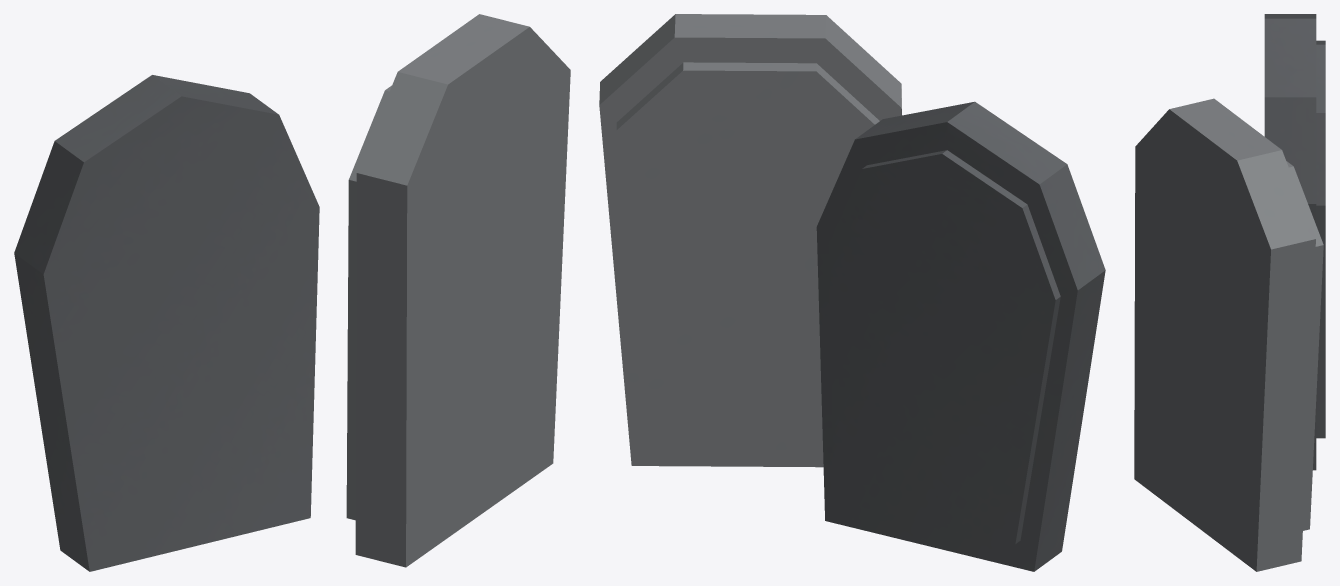
File: Lapides_Root.fbx
3 renders of one model, left to right at view 1: azimuth 30°, elevation 25°; view 2: azimuth 150°, elevation 25°; view 3: azimuth 270°, elevation 25°, orthographic. The views are drawn at different scales.
Parts seen in each view (by area): view 1: Lapides_frag_052, Lapides_frag_054, Lapides_frag_028, Lapides_frag_027, Lapides_frag_058, Lapides_frag_040, Lapides_frag_033, Lapides_frag_042, Lapides_frag_035, Lapides_frag_016, Lapides_frag_004, Lapides_frag_044 (+31 smaller); view 2: Lapides_frag_038, Lapides_frag_053, Lapides_frag_054, Lapides_frag_058, Lapides_frag_034, Lapides_frag_027, Lapides_frag_016, Lapides_frag_028, Lapides_frag_041, Lapides_frag_007, Lapides_frag_052, Lapides_frag_022 (+19 smaller); view 3: Lapides_frag_026, Lapides_frag_050, Lapides_frag_016, Lapides_frag_013, Lapides_frag_037, Lapides_frag_052, Lapides_frag_018, Lapides_frag_031, Lapides_frag_014, Lapides_frag_022, Lapides_frag_017, Lapides_frag_024 (+17 smaller).
Part boxes in pixels (x1,y1,x2,y2): Lapides_frag_052: [360, 52, 479, 238]; Lapides_frag_054: [45, 75, 246, 193]; Lapides_frag_028: [16, 267, 204, 403]; Lapides_frag_027: [199, 238, 318, 359]; Lapides_frag_058: [91, 177, 239, 282]; Lapides_frag_040: [349, 335, 445, 497]; Lapides_frag_033: [347, 227, 438, 365]; Lapides_frag_042: [125, 451, 245, 563]; Lapides_frag_035: [14, 152, 104, 299]; Lapides_frag_016: [435, 313, 519, 427]; Lapides_frag_004: [48, 360, 135, 481]; Lapides_frag_044: [19, 245, 186, 328]; Lapides_frag_038: [642, 19, 818, 187]; Lapides_frag_053: [606, 147, 817, 275]; Lapides_frag_054: [872, 101, 1055, 225]; Lapides_frag_058: [872, 208, 1064, 298]; Lapides_frag_034: [607, 198, 747, 338]; Lapides_frag_027: [818, 240, 936, 380]; Lapides_frag_016: [721, 253, 819, 389]; Lapides_frag_028: [934, 296, 1097, 370]; Lapides_frag_041: [616, 298, 749, 407]; Lapides_frag_007: [1000, 334, 1088, 509]; Lapides_frag_052: [763, 14, 901, 115]; Lapides_frag_022: [625, 389, 741, 466]; Lapides_frag_026: [1228, 195, 1323, 346]; Lapides_frag_050: [1224, 398, 1305, 517]; Lapides_frag_016: [1158, 304, 1228, 462]; Lapides_frag_013: [1194, 128, 1298, 226]; Lapides_frag_037: [1224, 336, 1291, 430]; Lapides_frag_052: [1135, 98, 1236, 206]; Lapides_frag_018: [1145, 203, 1205, 302]; Lapides_frag_031: [1264, 104, 1325, 209]; Lapides_frag_014: [1264, 30, 1325, 114]; Lapides_frag_022: [1243, 486, 1311, 571]; Lapides_frag_017: [1202, 223, 1252, 337]; Lapides_frag_024: [1161, 300, 1235, 390].
Size of the model in its own units: 71.68 by 58.49 by 25.58.
